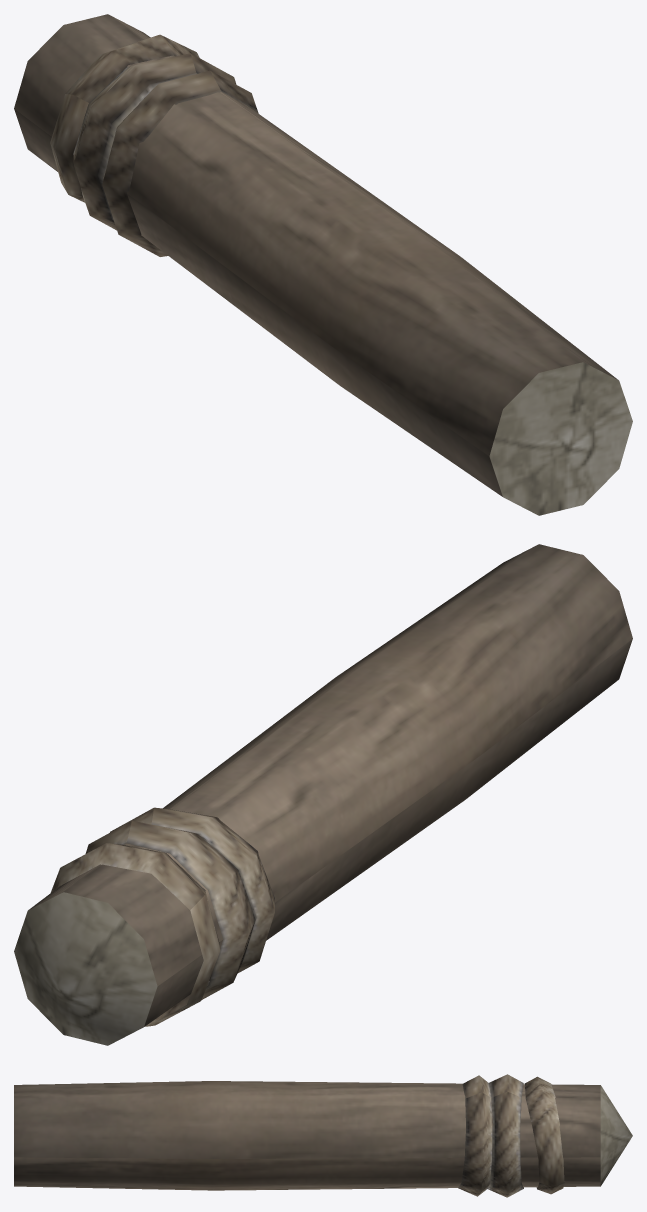
File: Fence_Pole_Type_01_B.fbx
3 views of the same model, one above another, from view 1: azimuth 30°, elevation 25°; view 2: azimuth 150°, elevation 25°; view 3: azimuth 270°, elevation 25° (orthographic). The views are drawn at different scales.
Visible parts, largest first — view 1: Fence_Pole_Type_01_B; view 2: Fence_Pole_Type_01_B; view 3: Fence_Pole_Type_01_B.
Boxes of the visible parts, x1,y1,x2,y2 form: Fence_Pole_Type_01_B: [14, 14, 632, 515]; Fence_Pole_Type_01_B: [14, 544, 632, 1045]; Fence_Pole_Type_01_B: [14, 1074, 632, 1197].
Size of the model in its own units: 0.3097 by 0.2942 by 1.53.
